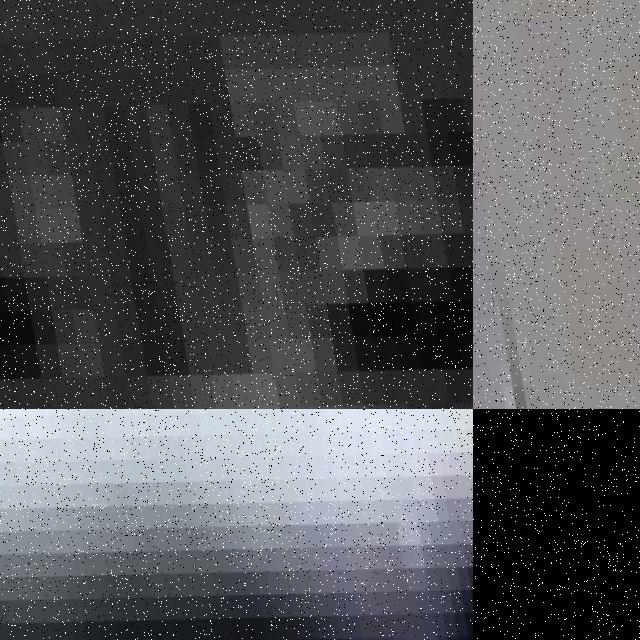0: (0, 0, 473, 409)
drone: (0, 409, 473, 640), (473, 0, 640, 409)
